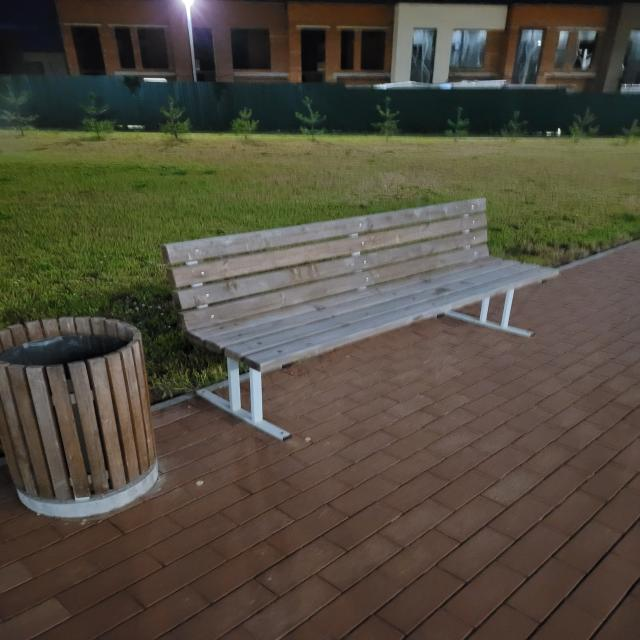Bench: (162, 197, 559, 441)
